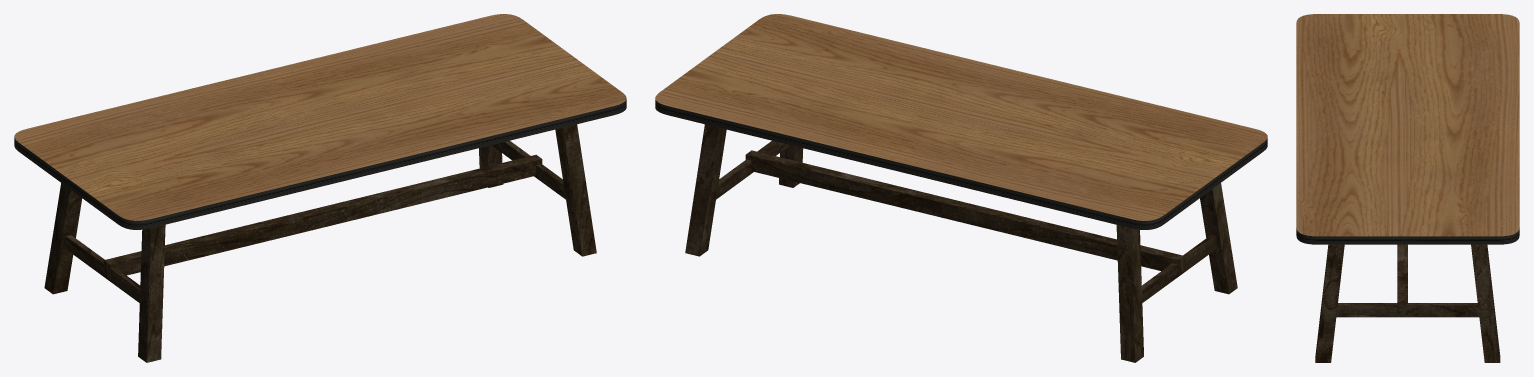
Rendered from low_height_coffee_table.glb.
3 views of the same model, side by side, from view 1: azimuth 30°, elevation 25°; view 2: azimuth 150°, elevation 25°; view 3: azimuth 270°, elevation 25° (orthographic). The views are drawn at different scales.
Parts seen in each view (by area): view 1: Box001; view 2: Box001; view 3: Box001.
Boxes of the visible parts, x1=… form: Box001: x1=14, y1=14, x2=626, y2=362; Box001: x1=655, y1=14, x2=1267, y2=362; Box001: x1=1296, y1=14, x2=1519, y2=362.
Bounding box in the file's own units: 2.59 × 0.7509 × 1.1.
1 material, 1 textured.
